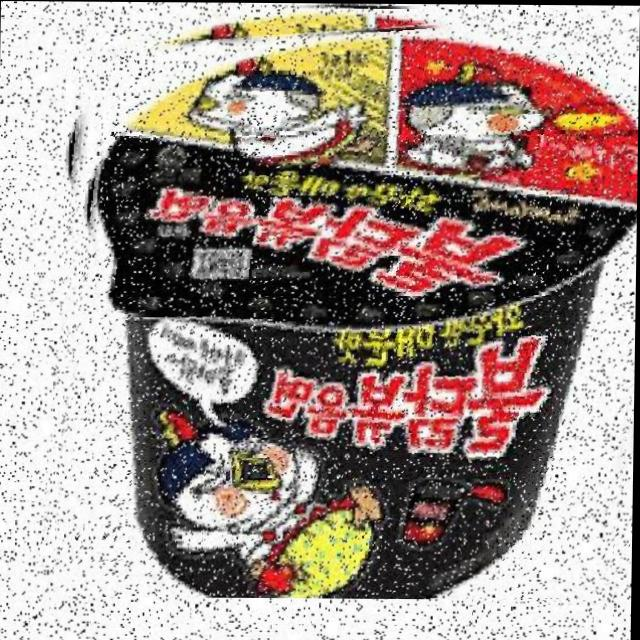Miscellaneous: (50, 1, 640, 598)
